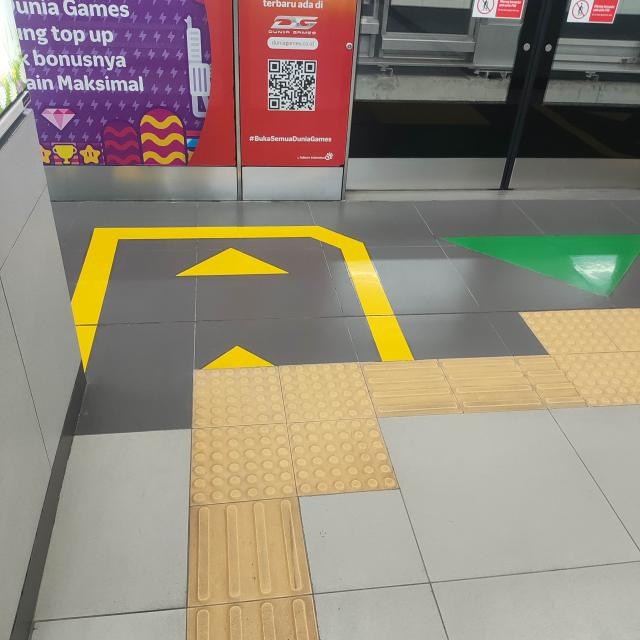kanan: (149, 299, 515, 541)
